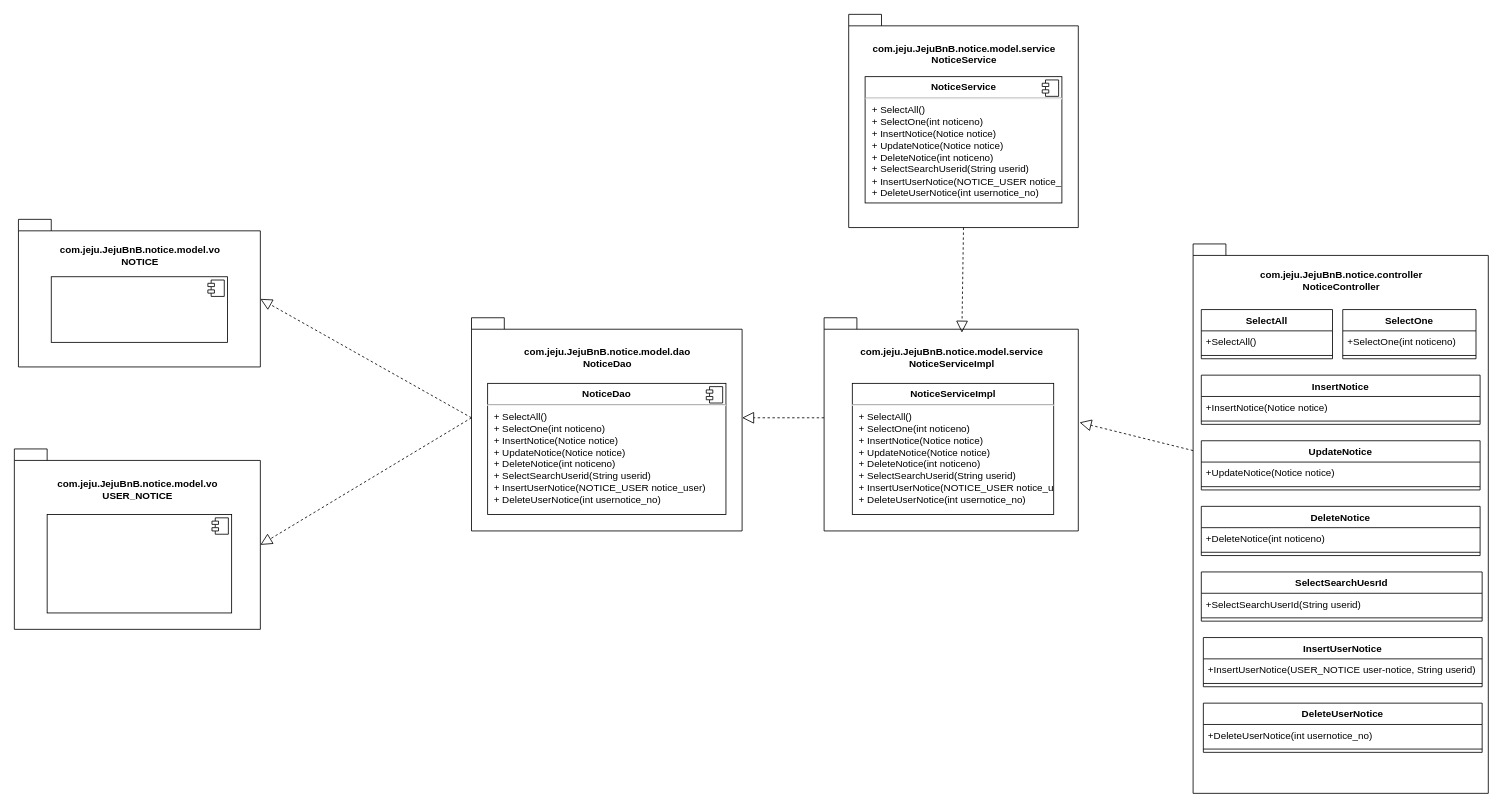
Image size: 1503x808. Some labels were removed from this diagram. Here are the shapes that lost their labels. From the top down, the centre of each, then its label:
At (x=139, y=309): "NOTICE + NOTICE_TYPE + NOTICE_CONTENT".
At (x=139, y=563): "USER_NOTICE + NOTICE_NO + NOTICE_CONTENT + NOTICE_DATE + TO_USER + FROM_USER".
